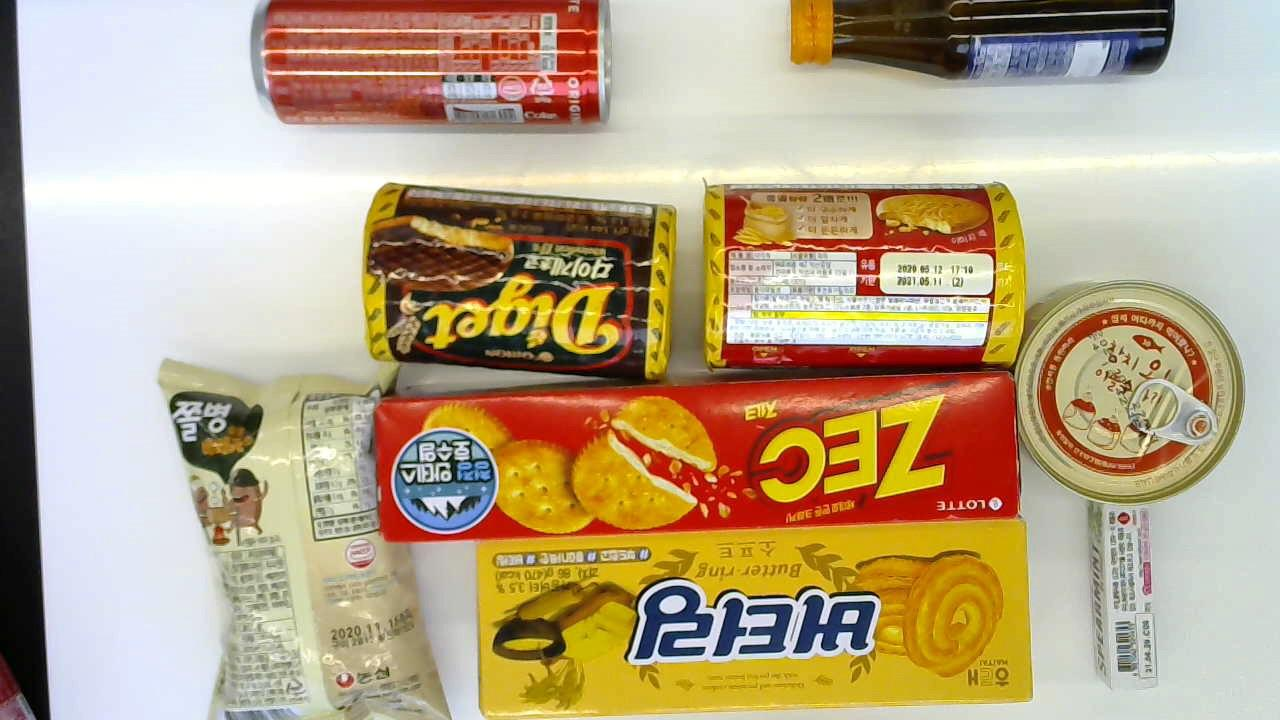buttering: (475, 517, 1036, 720)
coke: (249, 0, 613, 123)
diget_choco: (359, 175, 678, 380)
diget_ori: (700, 180, 1025, 367)
jjolbyung_ori: (156, 356, 453, 720)
spearmint: (1086, 497, 1158, 692)
tuna: (1021, 280, 1243, 499)
vita500: (791, 0, 1176, 82)
zec: (371, 365, 1026, 541)
